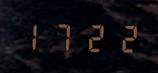one: (18, 18, 47, 52)
seven: (48, 19, 77, 52)
two: (78, 19, 107, 53), (108, 20, 137, 54)
